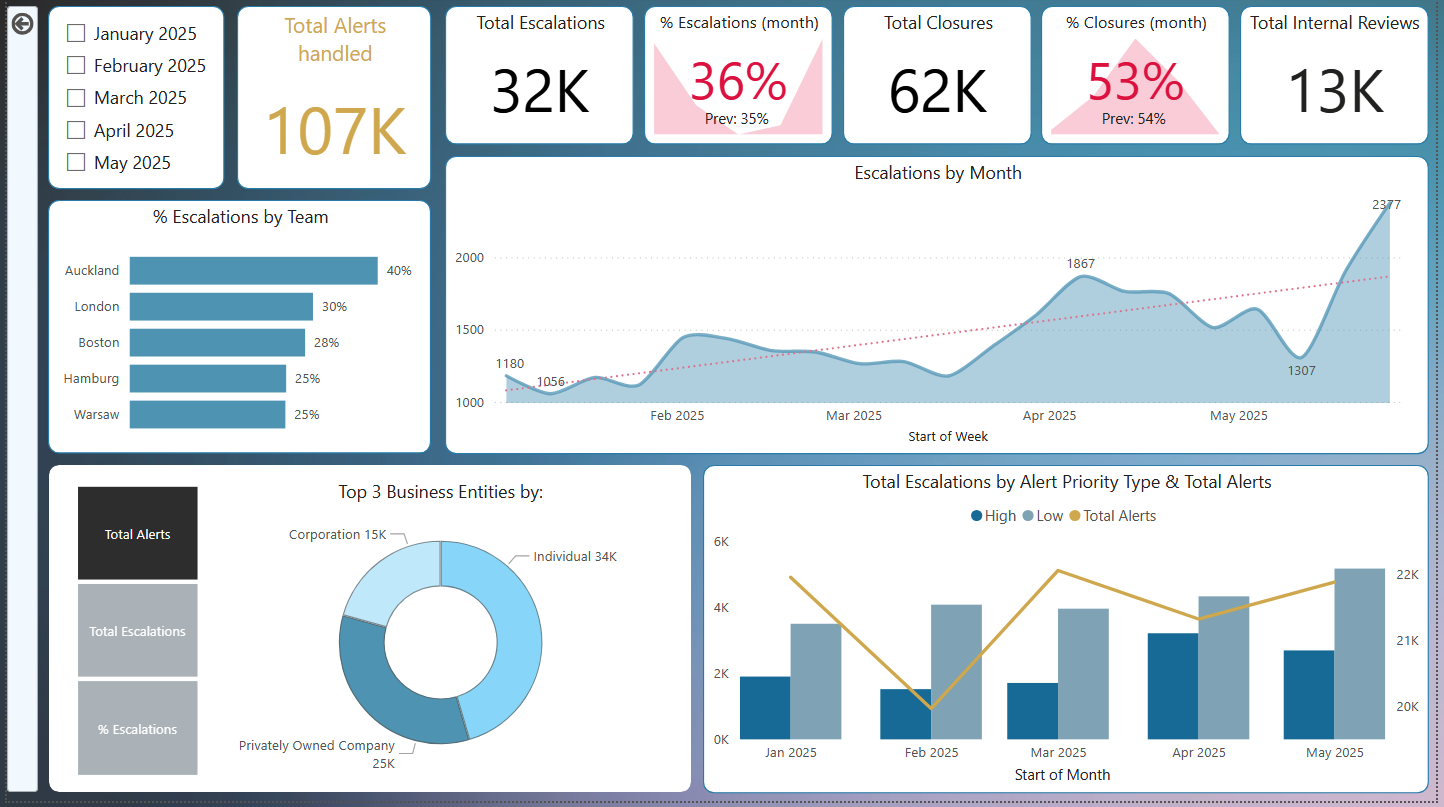

Layout of this report page (visuals, bound fields, positions):
{"tool":"powerbi","page":{"name":"OVERVIEW","canvas":[1280,720],"ordinal":0},"visuals":[{"type":"shape","box":[37.6,419.1,574.9,292.8],"z":0},{"type":"card","title":"Total Alerts handled","fields":{"Values":["Measures Table.TOTAL ALERTS"]},"box":[206,8,174,164],"z":1000},{"type":"card","title":"Total Escalations","fields":{"Values":["Measures Table.TOTAL ESCALATIONS"]},"box":[392.2,8,169.4,124.1],"z":2000},{"type":"slicer","fields":{"Values":["Calendar Lookup Table.Start of Month"]},"box":[37.1,8.2,157.6,163.9],"z":3000},{"type":"kpi","title":"% Escalations (month)","fields":{"Indicator":["Measures Table.% Escalations"],"Goal":["Measures Table.Prev Month % Escalation Rate"],"TrendLine":["Calendar Lookup Table.Month Name"]},"box":[570.4,8,169,124],"z":4000},{"type":"lineChart","title":"Escalations by Month","fields":{"Y":["Measures Table.TOTAL Escalations"],"Category":["Calendar Lookup Table.Start of Week"]},"box":[392.2,142.2,881.2,267.2],"z":5000},{"type":"barChart","title":"% Escalations by Team","fields":{"Category":["Analyst Lookup Table.Analyst Team"],"Y":["Measures Table.% Escalations"]},"box":[37.1,182,343.2,227.3],"z":6000},{"type":"card","title":"Total Closures","fields":{"Values":["Measures Table.TOTAL Closures"]},"box":[748.3,8,169,124],"z":7000},{"type":"card","title":"Total Internal Reviews","fields":{"Values":["Measures Table.Total Internal Reviews"]},"box":[1104,8,169,124],"z":8000},{"type":"shape","box":[0,8.1,27.8,703.9],"z":9000},{"type":"lineClusteredColumnComboChart","title":"Total Escalations by Alert Priority Type & Total Alerts","fields":{"Category":["Calendar Lookup Table.Start of Month"],"Series":["Alerts.Alert Type"],"Y":["Measures Table.Total Escalations"],"Y2":["Measures Table.Total Alerts"]},"box":[623,419,650,294],"z":10000},{"type":"donutChart","title":"Top 3 Business Entities by:","fields":{"Y":["Measures Table.Total Alerts"],"Category":["Alerts.Business Entity"]},"box":[178.4,432,420.2,271.7],"z":11000},{"type":"slicer","fields":{"Values":["Overview Parameters.Overview Parameters"]},"box":[38,432,156.7,271.7],"z":12000},{"type":"kpi","title":"% Closures (month)","fields":{"TrendLine":["Calendar Lookup Table.Month Name"],"Indicator":["Measures Table.% Closures"],"Goal":["Measures Table.% Prev Month Closure Rate"]},"box":[926.1,8,169,124],"z":13000},{"type":"actionButton","box":[0,8.1,27.8,32.2],"z":13501}]}

Visuals, with their boxes in screenshot pixels (x1, y1, x2, y2), scaled from the page's 1280x720 canvas onto the 1444x807 screenshot:
shape: [left=42, top=470, right=691, bottom=798]
"Total Alerts handled" card: [left=232, top=9, right=429, bottom=193]
"Total Escalations" card: [left=442, top=9, right=634, bottom=148]
slicer - Calendar Lookup Table.Start of Month: [left=42, top=9, right=220, bottom=193]
"% Escalations (month)" kpi: [left=643, top=9, right=834, bottom=148]
"Escalations by Month" lineChart: [left=442, top=159, right=1437, bottom=459]
"% Escalations by Team" barChart: [left=42, top=204, right=429, bottom=459]
"Total Closures" card: [left=844, top=9, right=1035, bottom=148]
"Total Internal Reviews" card: [left=1245, top=9, right=1436, bottom=148]
shape: [left=0, top=9, right=31, bottom=798]
"Total Escalations by Alert Priority Type & Total Alerts" lineClusteredColumnComboChart: [left=703, top=470, right=1436, bottom=799]
"Top 3 Business Entities by:" donutChart: [left=201, top=484, right=675, bottom=789]
slicer - Overview Parameters.Overview Parameters: [left=43, top=484, right=220, bottom=789]
"% Closures (month)" kpi: [left=1045, top=9, right=1235, bottom=148]
actionButton: [left=0, top=9, right=31, bottom=45]
